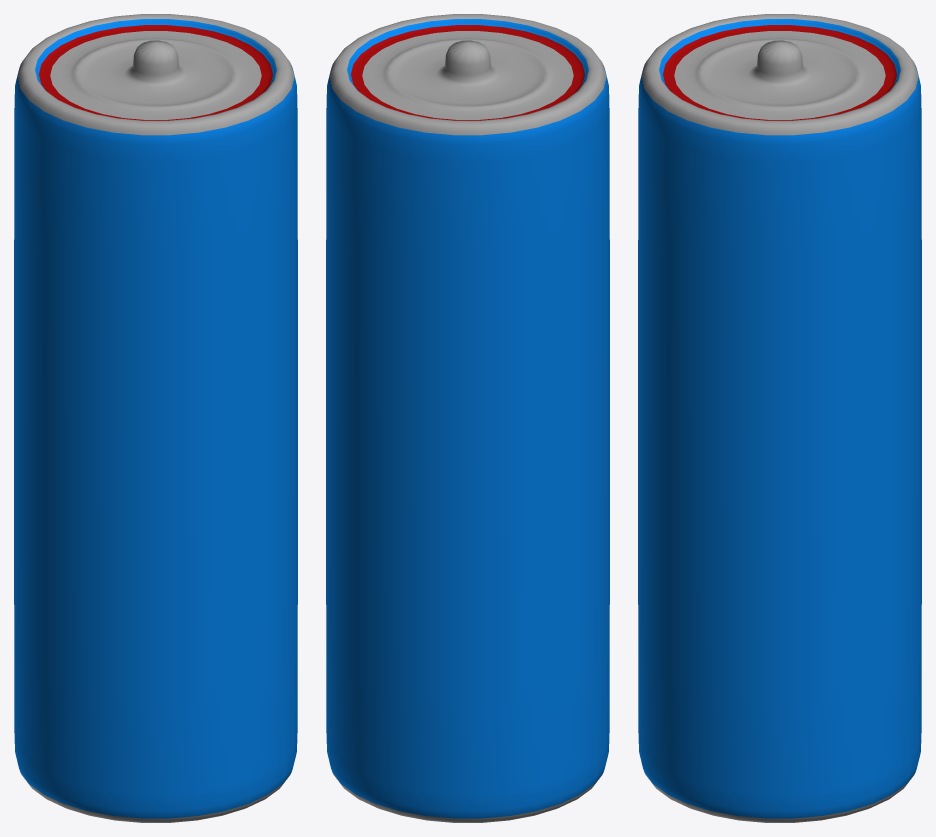
The model's file is batre.fbx.
3 renders of one model, left to right at view 1: azimuth 30°, elevation 25°; view 2: azimuth 150°, elevation 25°; view 3: azimuth 270°, elevation 25°, orthographic.
Visible parts, largest first — view 1: Cylinder; view 2: Cylinder; view 3: Cylinder.
Boxes of the visible parts, x1,y1,x2,y2 form: Cylinder: [14, 14, 297, 822]; Cylinder: [326, 14, 609, 822]; Cylinder: [638, 14, 921, 822].
Bounding box in the file's own units: 193 × 548 × 194.
